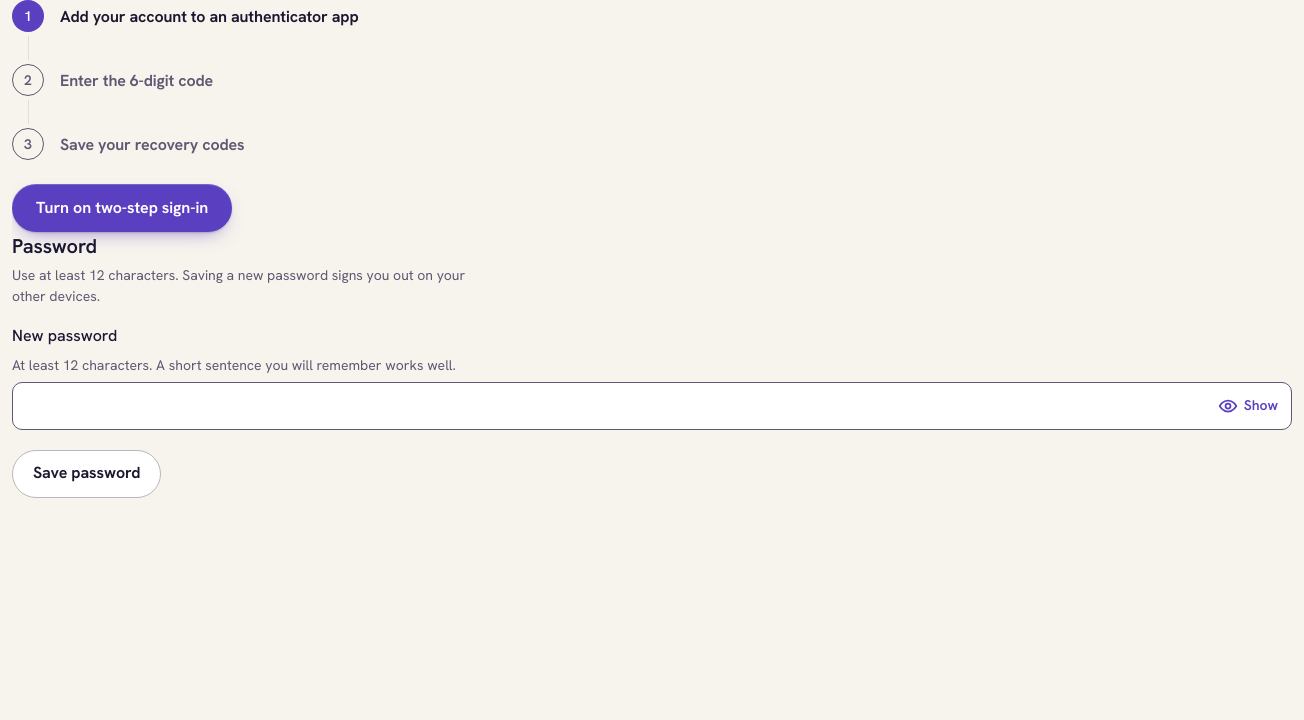
Test: two-step setup without a password on file (password_set false) › asks for the password straight away once one is saved in the Password section
Check: the field labelled "Confirm with your current password" is not shown
Type "a long enough password" into the password field labelled "New password".
click(652, 406); type("a long enough password")  # box [12,382,1292,430]
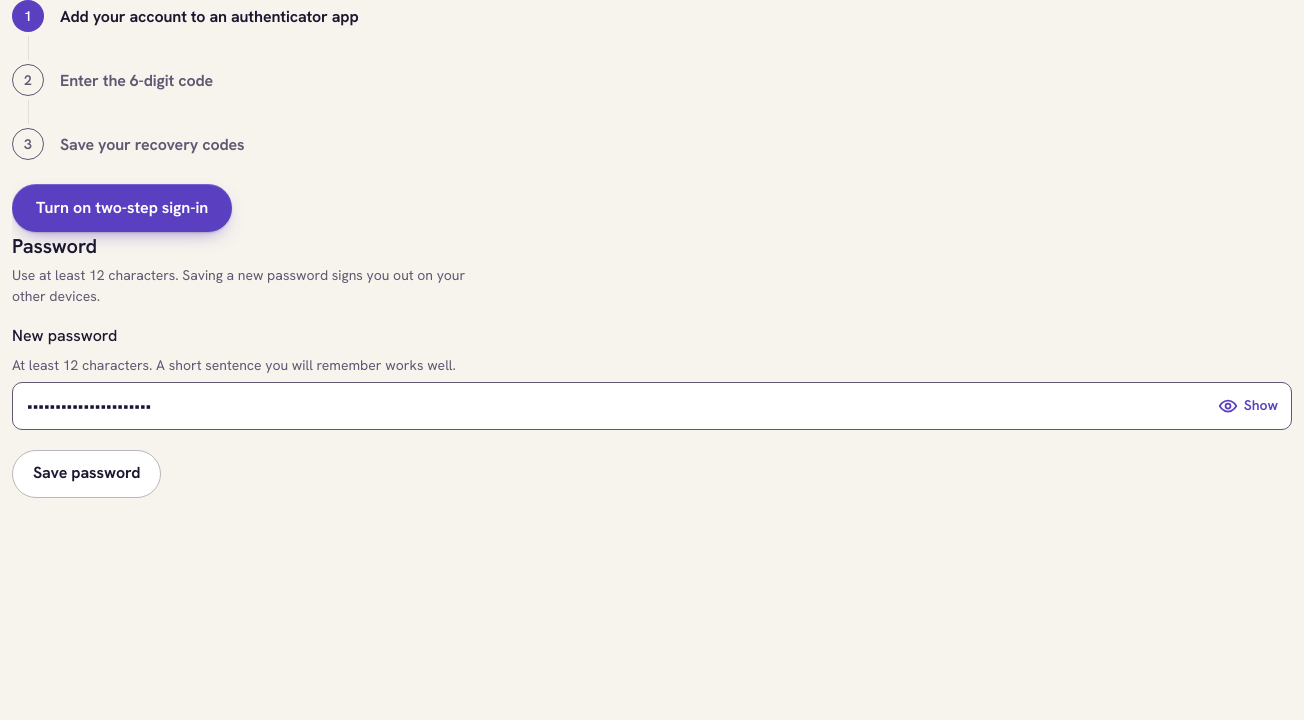
Click the button "Save password".
click(87, 474)  # box [12,450,161,498]
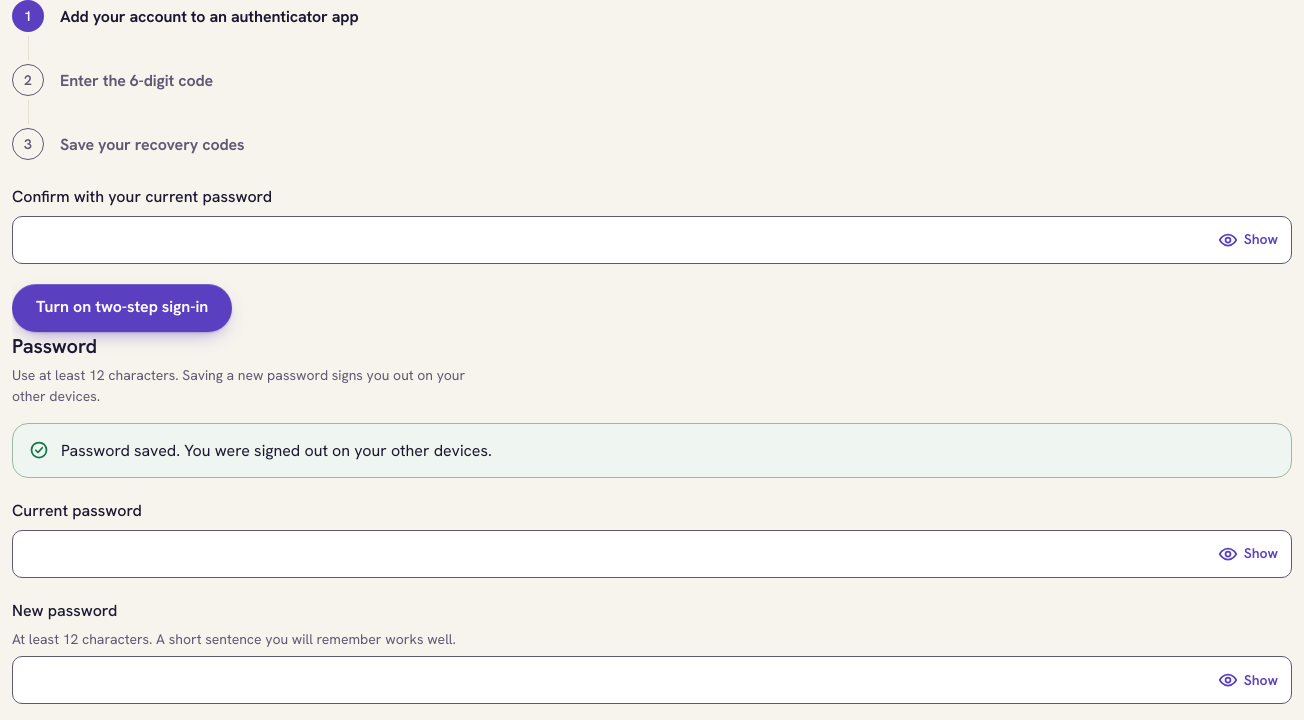
Check: the password field labelled "Confirm with your current password" is shown, box [12,216,1292,264]
